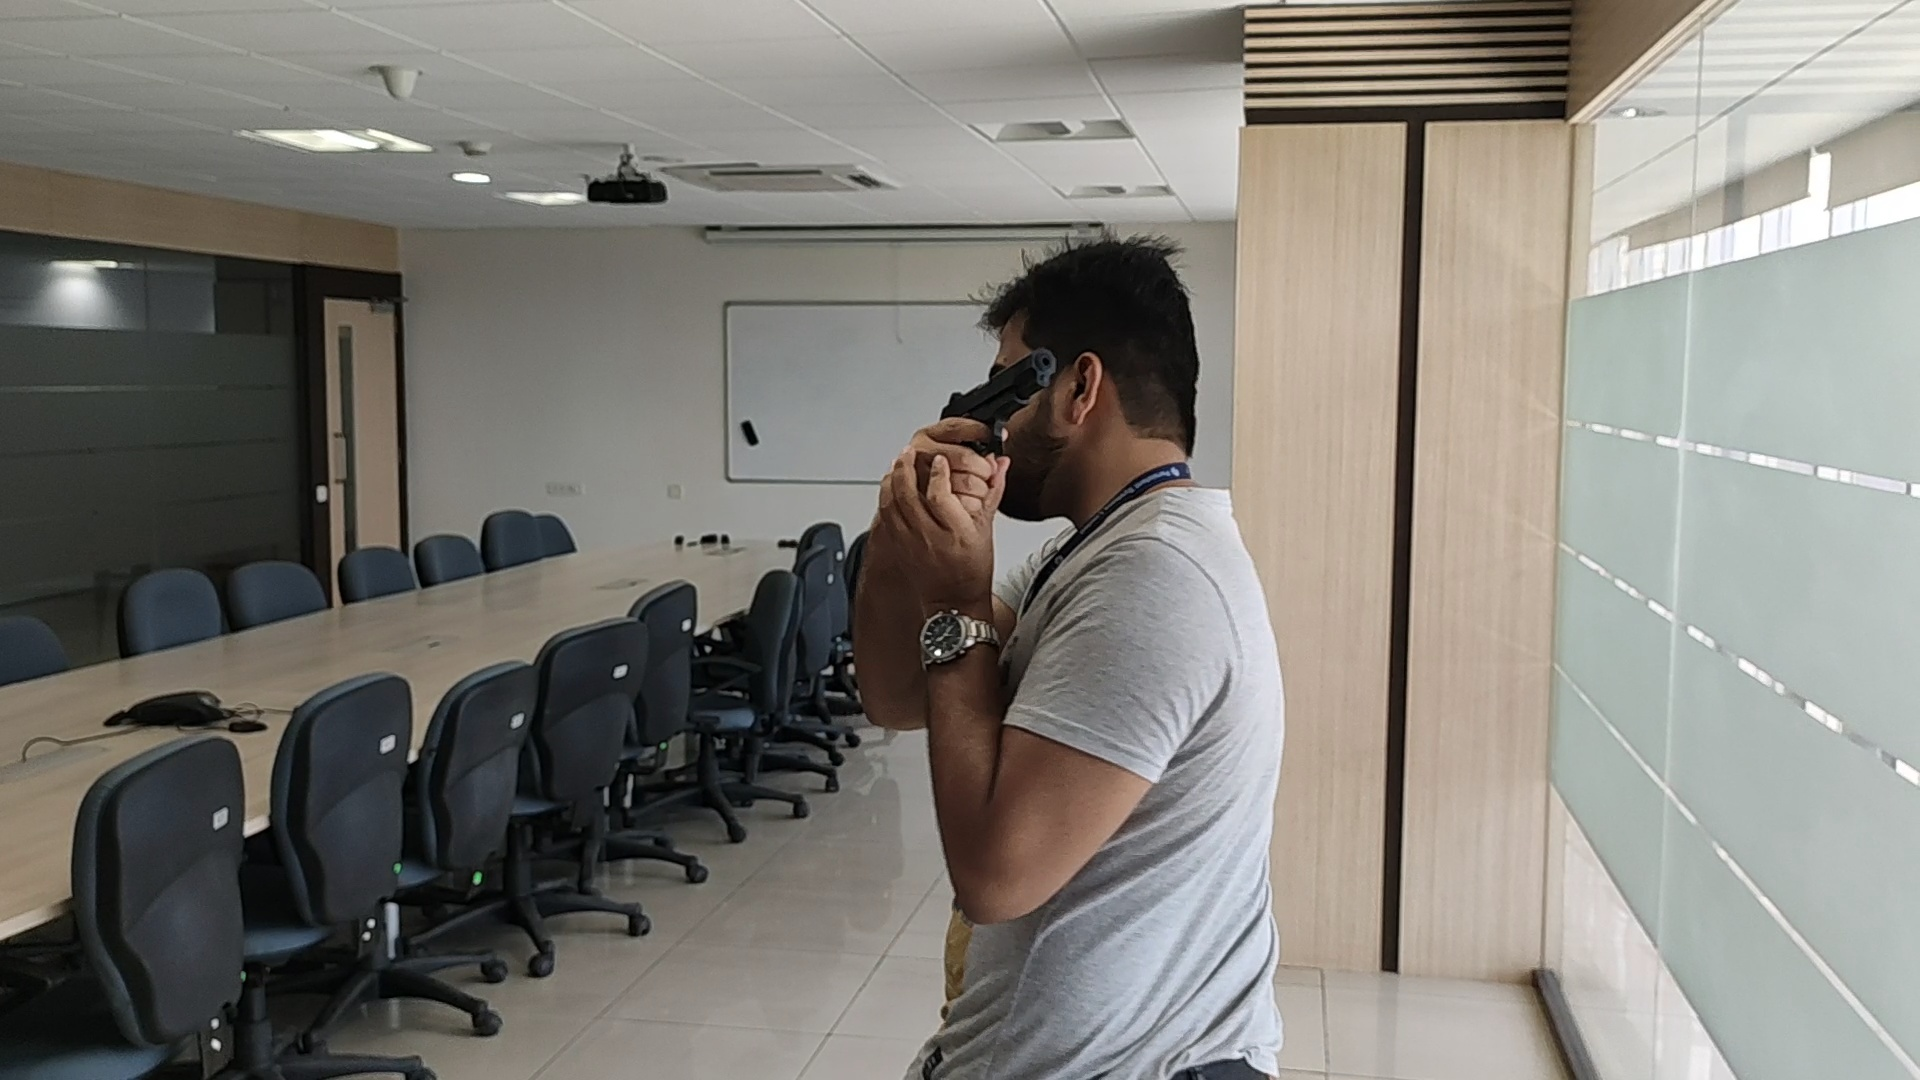gun: (940, 348, 1056, 419)
